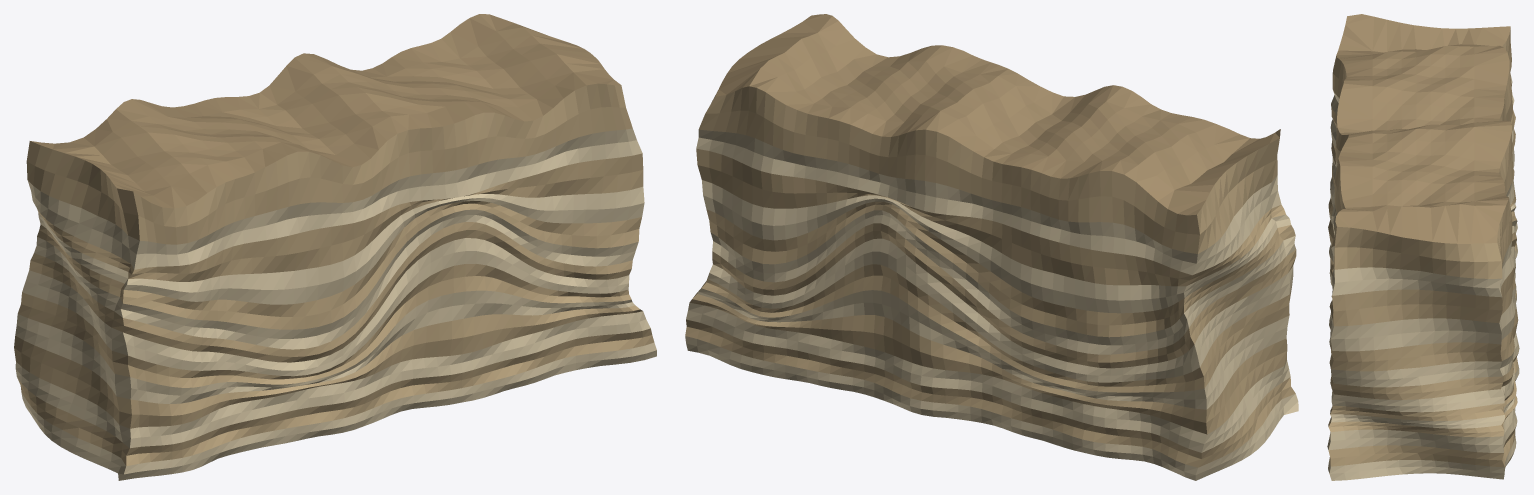
The model's file is slump-folded-bed.glb.
The picture shows the model from 3 angles, left to right: view 1: azimuth 30°, elevation 25°; view 2: azimuth 150°, elevation 25°; view 3: azimuth 270°, elevation 25°; orthographic projection. The views are drawn at different scales.
Parts seen in each view (by area): view 1: bounded_soft_sediment_slump_folded_middle_interval_orderly_u; view 2: bounded_soft_sediment_slump_folded_middle_interval_orderly_u; view 3: bounded_soft_sediment_slump_folded_middle_interval_orderly_u.
Boxes of the visible parts, left/top/right/bottom form: bounded_soft_sediment_slump_folded_middle_interval_orderly_u: left=14, top=14, right=656, bottom=480; bounded_soft_sediment_slump_folded_middle_interval_orderly_u: left=685, top=14, right=1298, bottom=480; bounded_soft_sediment_slump_folded_middle_interval_orderly_u: left=1327, top=14, right=1519, bottom=480.
Size of the model in its own units: 8.28 by 4.24 by 2.94.
